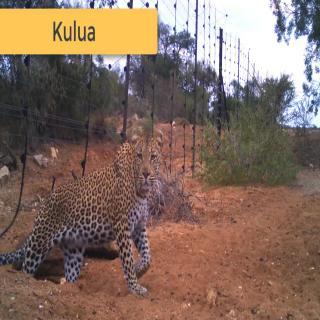Leopard: (0, 130, 164, 300)
